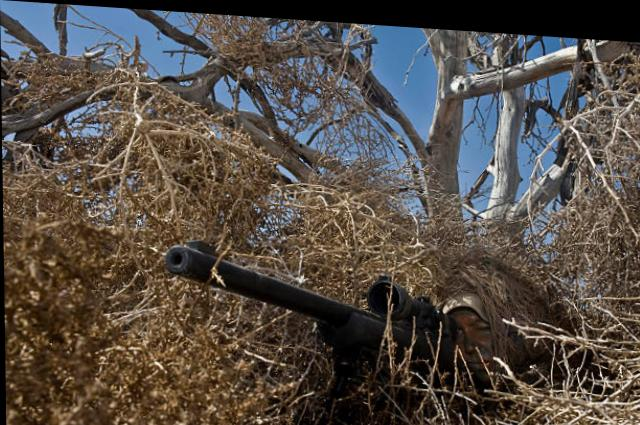other: (402, 234, 567, 424)
